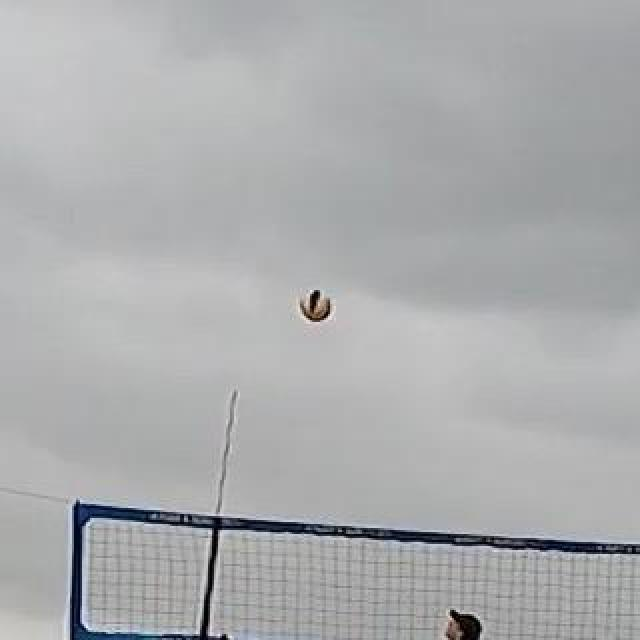volleyball: (301, 292, 331, 322)
